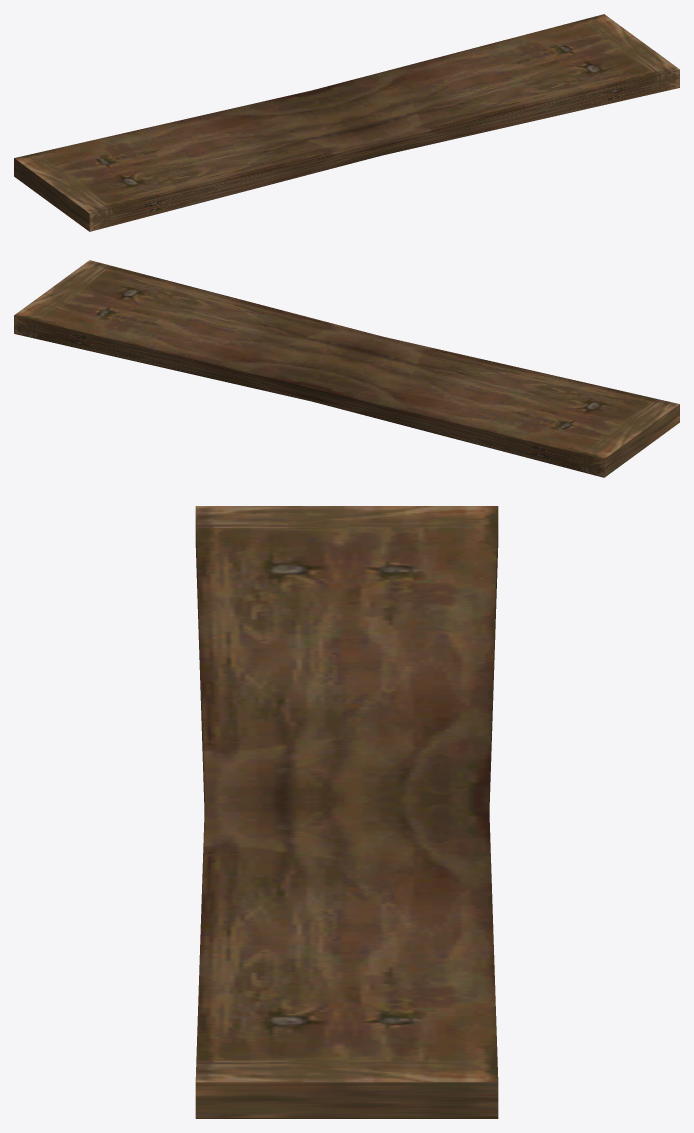
Rendered from environment_common_mudiaoqiao_001_b.FBX.
3 views of the same model, one above another, from view 1: azimuth 30°, elevation 25°; view 2: azimuth 150°, elevation 25°; view 3: azimuth 270°, elevation 25° (orthographic). The views are drawn at different scales.
Parts seen in each view (by area): view 1: environment_common_mudiaoqiao_001_b; view 2: environment_common_mudiaoqiao_001_b; view 3: environment_common_mudiaoqiao_001_b.
Boxes of the visible parts, <box> form: environment_common_mudiaoqiao_001_b: <box>14,14,679,231</box>; environment_common_mudiaoqiao_001_b: <box>14,260,679,477</box>; environment_common_mudiaoqiao_001_b: <box>195,506,498,1118</box>.
Bounding box in the file's own units: 298 × 8.89 × 66.27.
